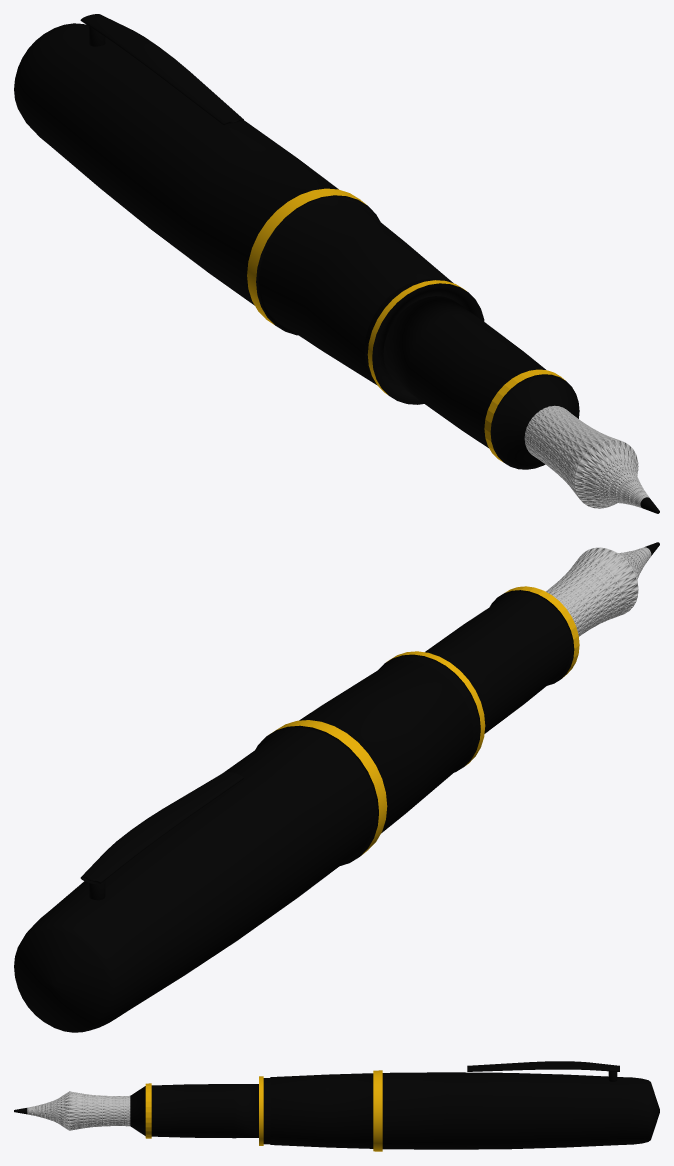
Rendered from kalem.fbx.
3 views of the same model, one above another, from view 1: azimuth 30°, elevation 25°; view 2: azimuth 150°, elevation 25°; view 3: azimuth 270°, elevation 25° (orthographic). The views are drawn at different scales.
Parts seen in each view (by area): view 1: Cylinder, Cylinder.001, Cylinder.004, Cylinder.006, Cylinder.008, Cylinder.002, Cylinder.003; view 2: Cylinder, Cylinder.001, Cylinder.004, Cylinder.006, Cylinder.008, Cylinder.003, Cylinder.002; view 3: Cylinder, Cylinder.001, Cylinder.004, Cylinder.006, Cylinder.008, Cylinder.002, Cylinder.003.
Part boxes in pixels (x1=…): Cylinder: x1=14, y1=23, x2=453, y2=385; Cylinder.001: x1=364, y1=278, x2=579, y2=469; Cylinder.004: x1=524, y1=405, x2=649, y2=508; Cylinder.006: x1=80, y1=14, x2=243, y2=126; Cylinder.008: x1=247, y1=188, x2=367, y2=324; Cylinder.002: x1=484, y1=369, x2=565, y2=462; Cylinder.003: x1=367, y1=280, x2=465, y2=395; Cylinder: x1=14, y1=660, x2=473, y2=1032; Cylinder.001: x1=378, y1=590, x2=574, y2=772; Cylinder.004: x1=546, y1=547, x2=651, y2=636; Cylinder.006: x1=80, y1=772, x2=243, y2=884; Cylinder.008: x1=269, y1=720, x2=387, y2=855; Cylinder.003: x1=386, y1=651, x2=485, y2=765; Cylinder.002: x1=505, y1=586, x2=579, y2=678; Cylinder: x1=270, y1=1072, x2=659, y2=1149; Cylinder.001: x1=130, y1=1078, x2=270, y2=1144; Cylinder.004: x1=27, y1=1091, x2=130, y2=1130; Cylinder.006: x1=467, y1=1061, x2=619, y2=1071; Cylinder.008: x1=373, y1=1070, x2=382, y2=1151; Cylinder.002: x1=145, y1=1083, x2=151, y2=1138; Cylinder.003: x1=259, y1=1076, x2=263, y2=1145.
Bounding box in the file's own units: 240 × 274 × 1903.
